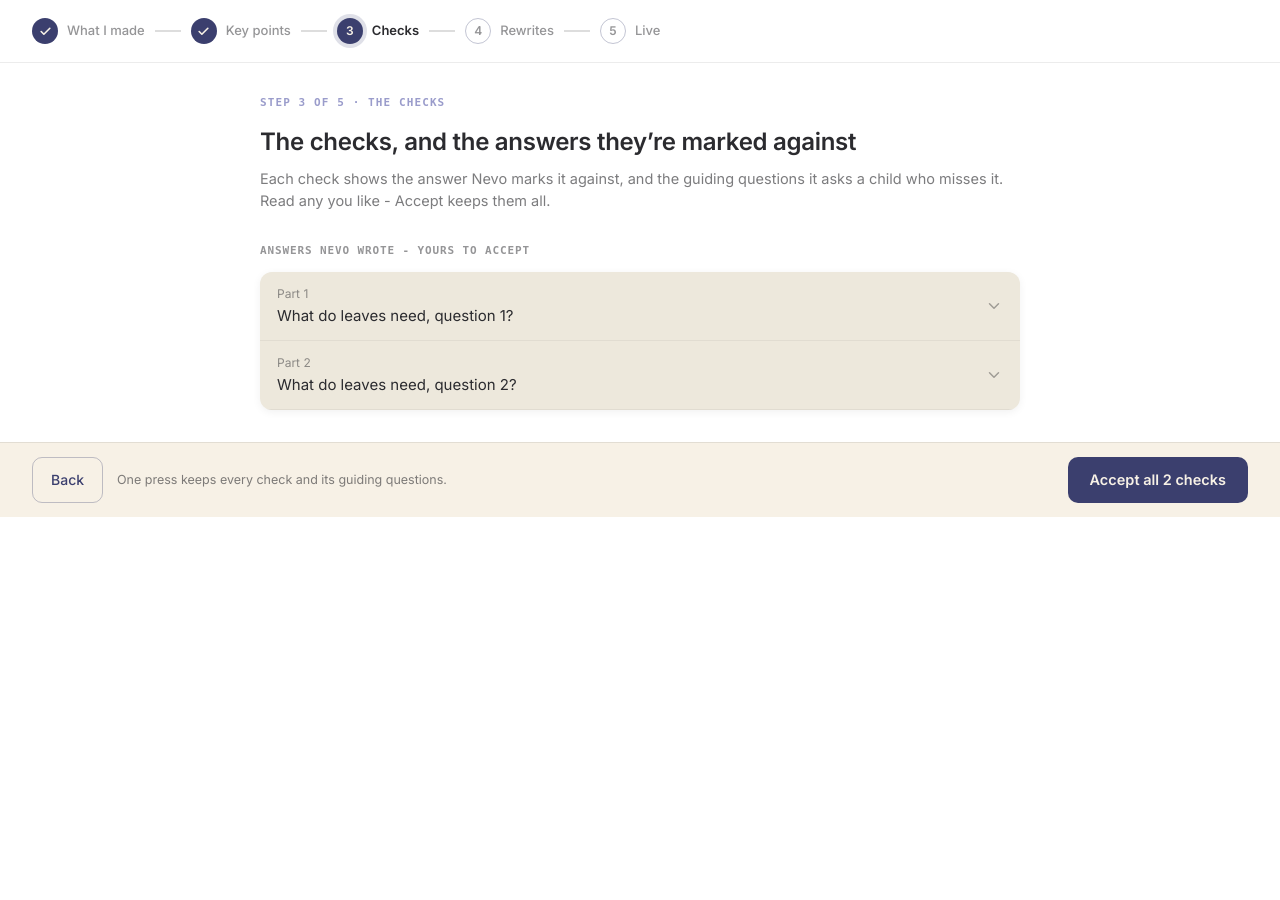
Test: reading what the lesson asks › shows the guiding questions under the check they lead to, each with its answer
The image size is (1280, 900).
Expected: the navigation bar named "Lesson review steps" is shown, [0,0,1279,63]
Click the button "Part 1 What do leaves need, question 1?": [293, 294] box [260,272,1020,340]
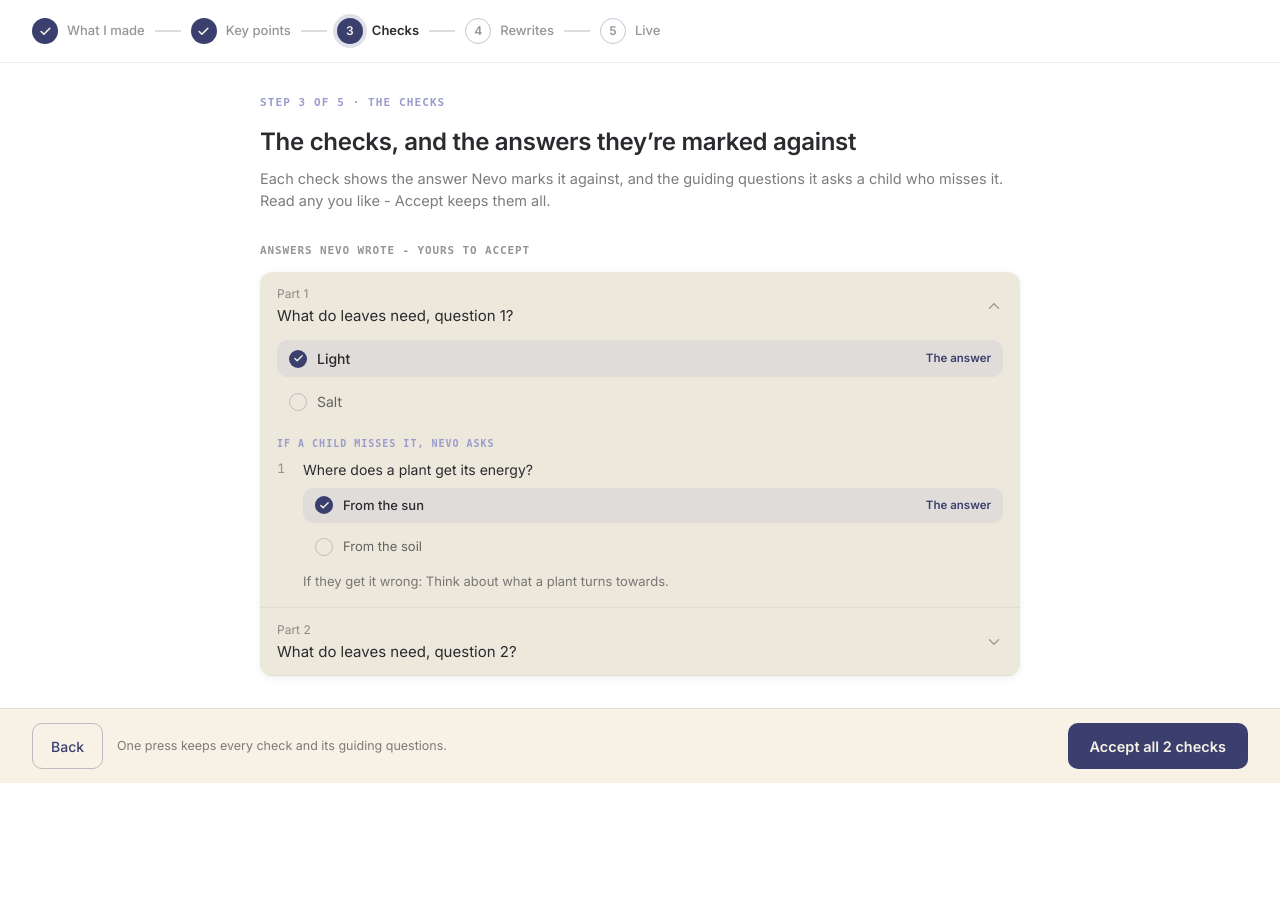
Now the text "If a child misses it, Nevo asks" is shown, box [277,438,495,449]
Now the text "Where does a plant get its energy?" is shown, box [303,461,533,478]
Now the text "The answer" in the row of "From the sun" is shown, box [926,498,991,512]
